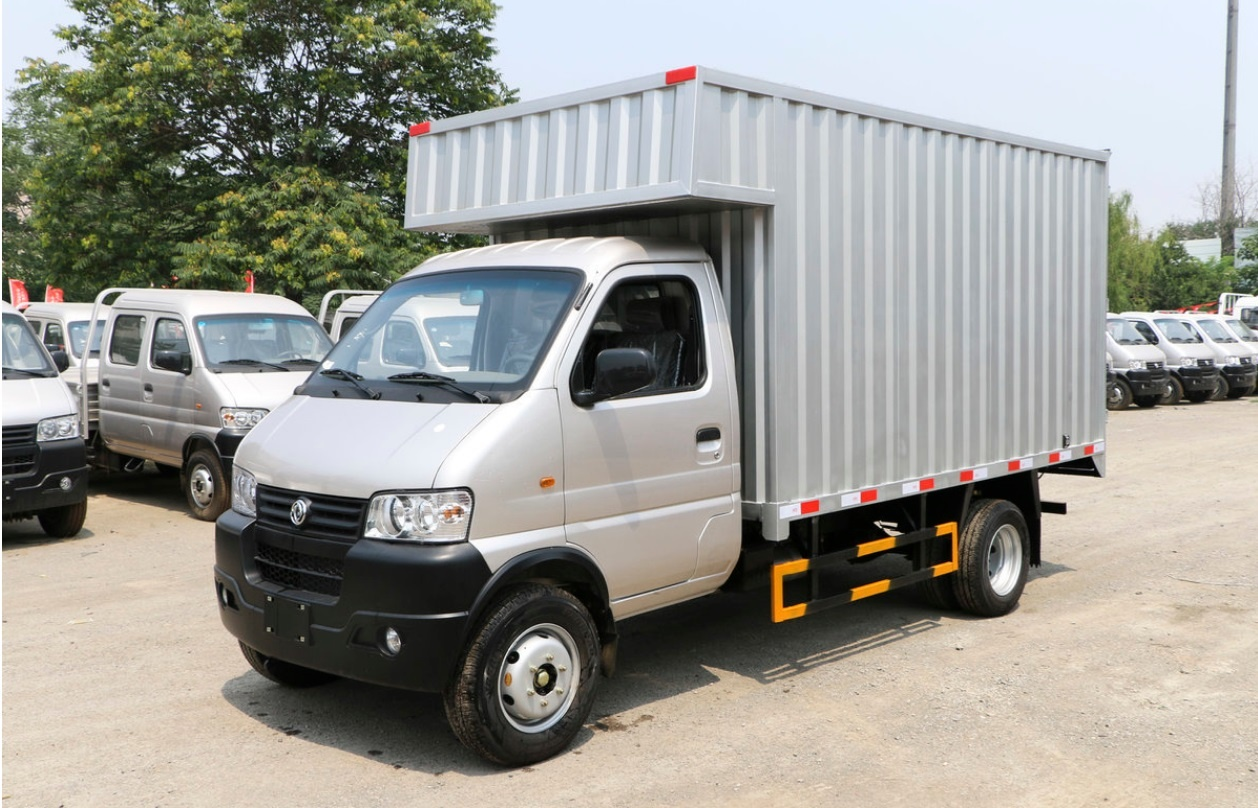truck: (205, 63, 1137, 739)
